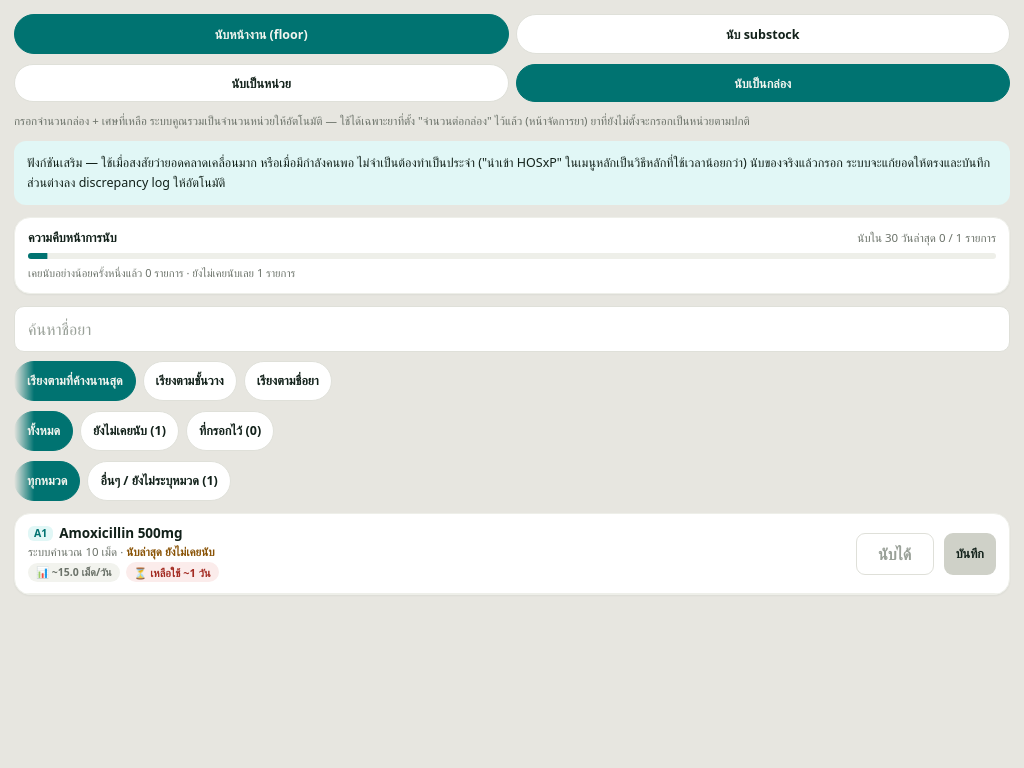
it: CountScreen — days-left badge reflects the just-typed count regression › projects runway off the typed count, not the stale live floor, the moment something is typed
expect the text "⏳ เหลือใช้ ~1 วัน" is shown: met, box 126,562 -> 219,582
Type "100" into the field with placeholder "นับได้" at (895, 554), box 856,532 -> 934,574
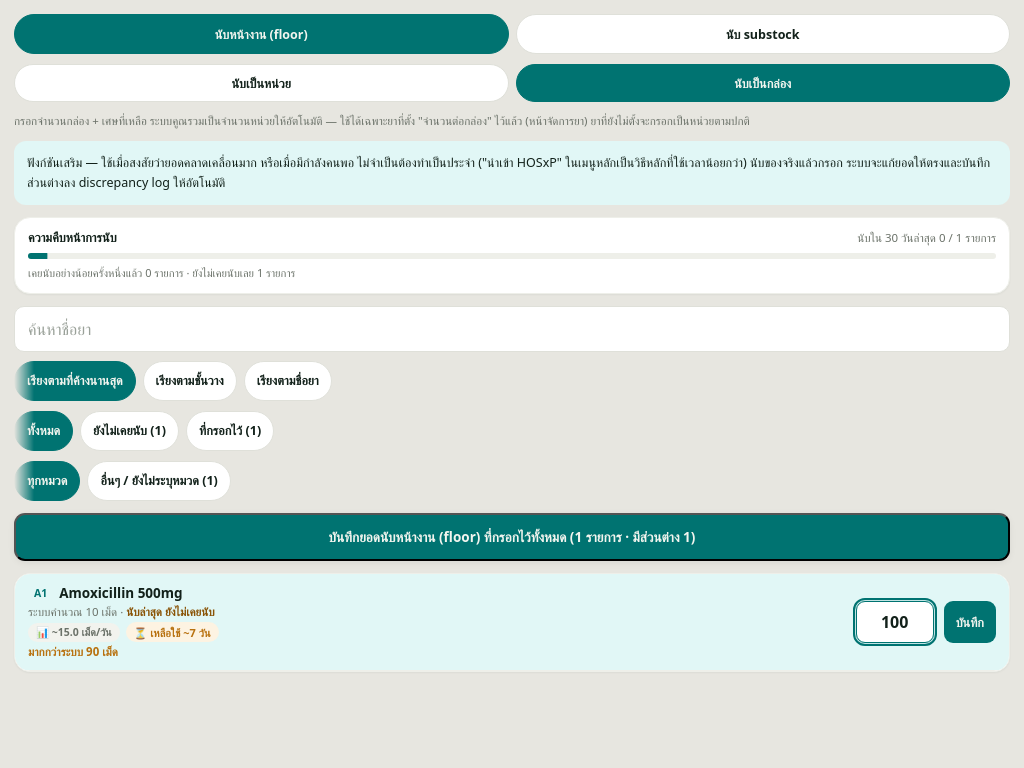
expect the text "⏳ เหลือใช้ ~7 วัน" is shown: met, box 126,622 -> 219,642
expect the button "เหลือใช้ ~1 วัน" is gone: met
